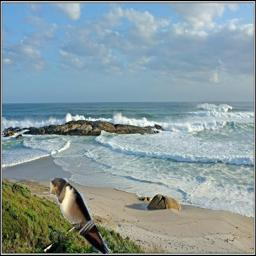Swallow: (49, 178, 110, 254)
